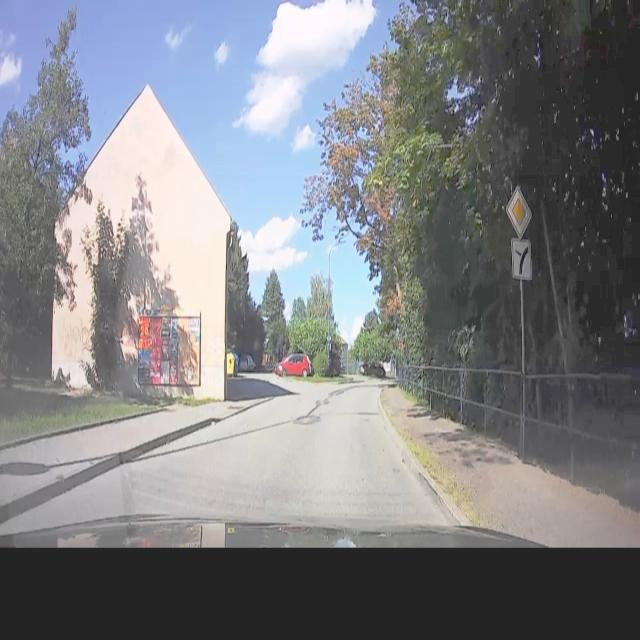Priority road: (504, 182, 533, 238)
